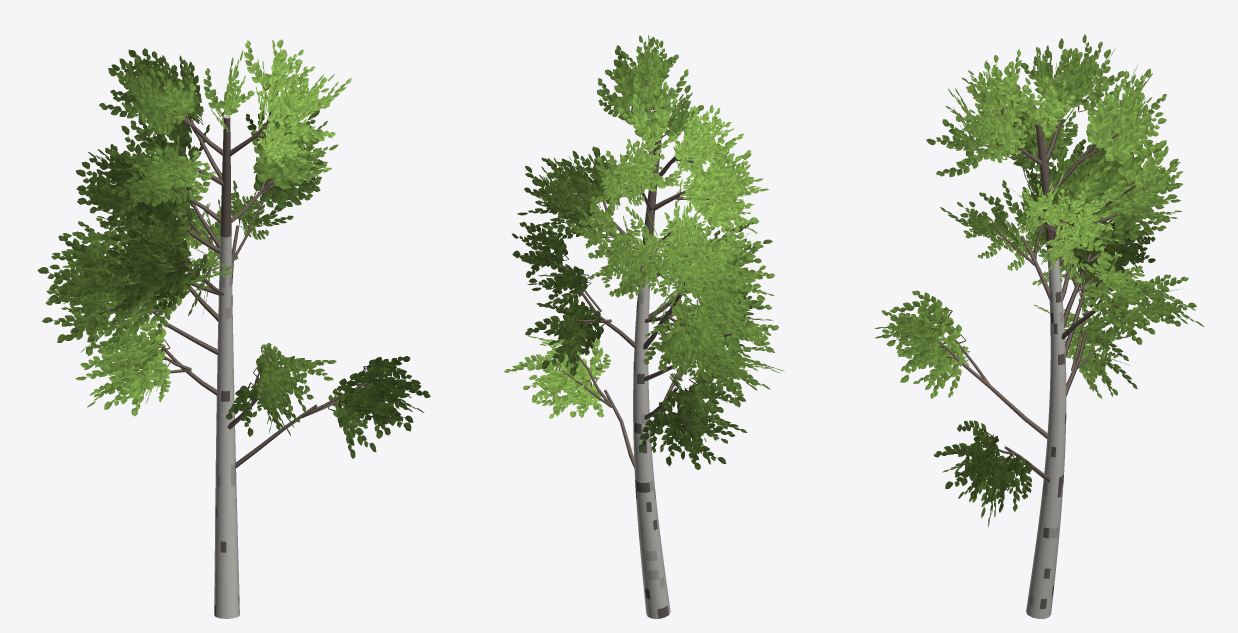
The model's file is birch_2.glb.
The picture shows the model from 3 angles, left to right: view 1: azimuth 30°, elevation 25°; view 2: azimuth 150°, elevation 25°; view 3: azimuth 270°, elevation 25°; orthographic projection. The views are drawn at different scales.
Parts seen in each view (by area): view 1: birch_2; view 2: birch_2; view 3: birch_2.
Boxes of the visible parts, bbox=[...] form: birch_2: bbox=[37, 39, 430, 618]; birch_2: bbox=[504, 35, 784, 618]; birch_2: bbox=[874, 34, 1203, 618].
Bounding box in the file's own units: 6.74 × 10.4 × 6.
5 materials, 1 textured.
